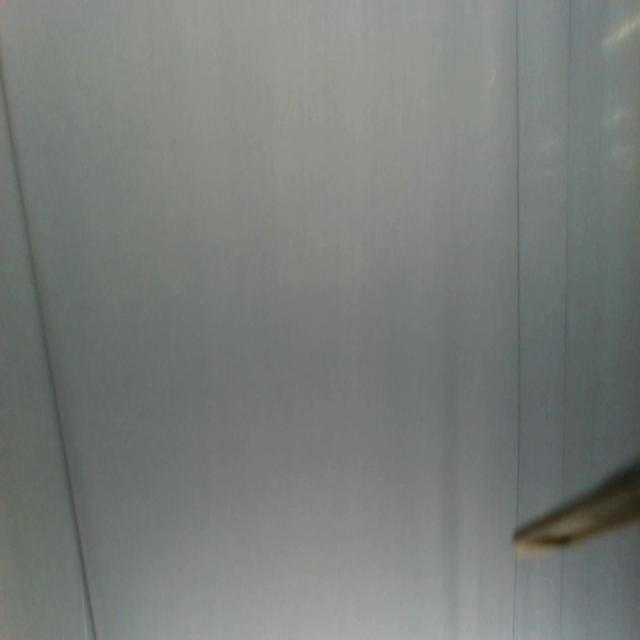crease: (0, 54, 100, 640), (559, 2, 576, 503), (514, 1, 523, 527), (508, 557, 525, 640), (558, 558, 567, 638)
